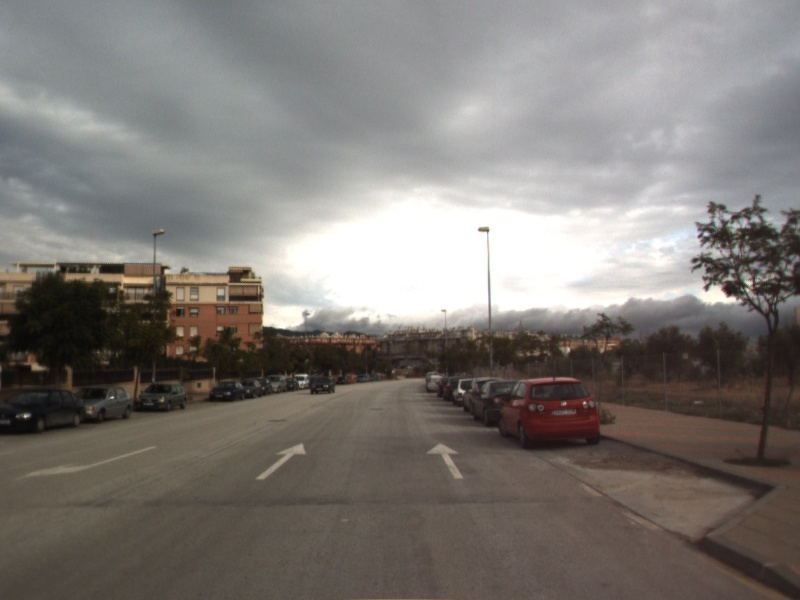STRAIGHT: (254, 441, 309, 481), (424, 440, 466, 480)
